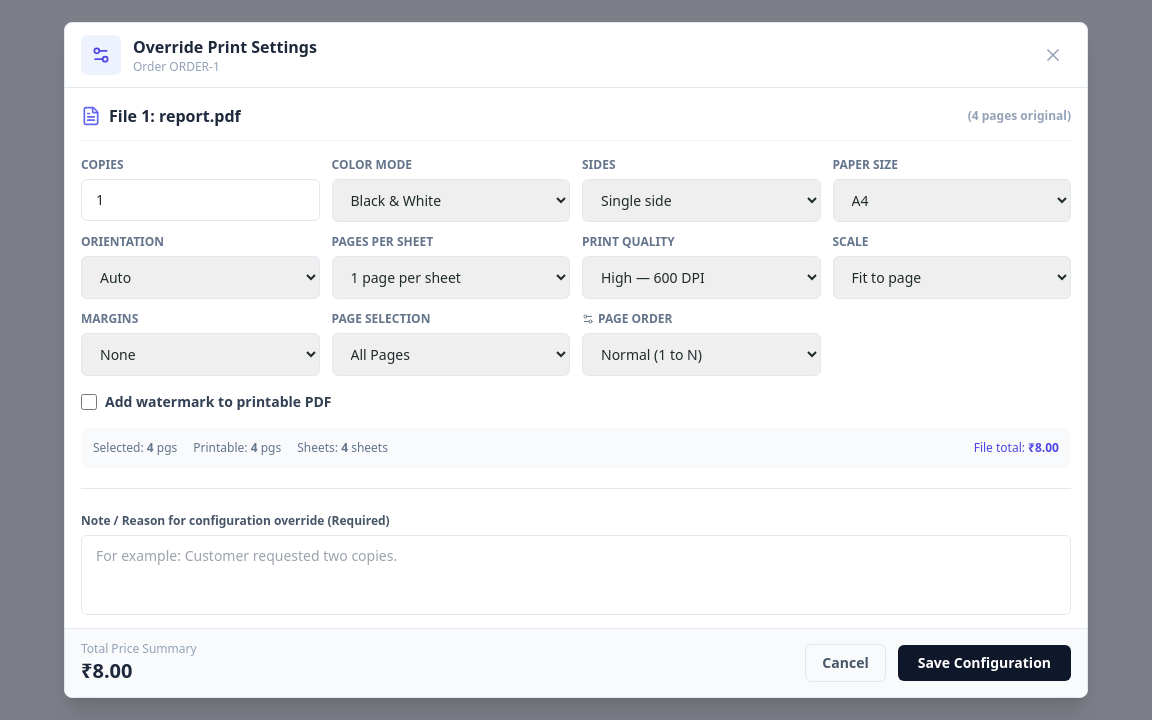
Test case: explains a missing reason instead of leaving the Save button inert
Step 1. Click the button "Save Configuration" → (984, 663), box x1=898 y1=645 x2=1071 y2=681
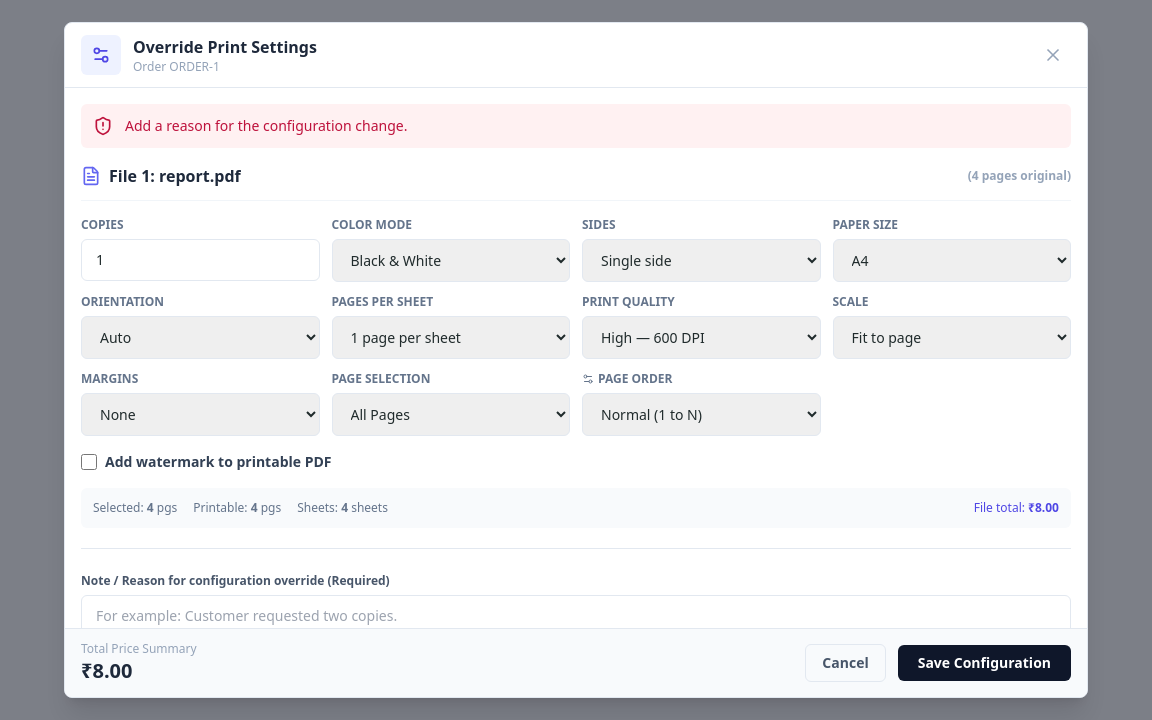
Result: the message shows "reason" at x1=125 y1=116 x2=407 y2=135
